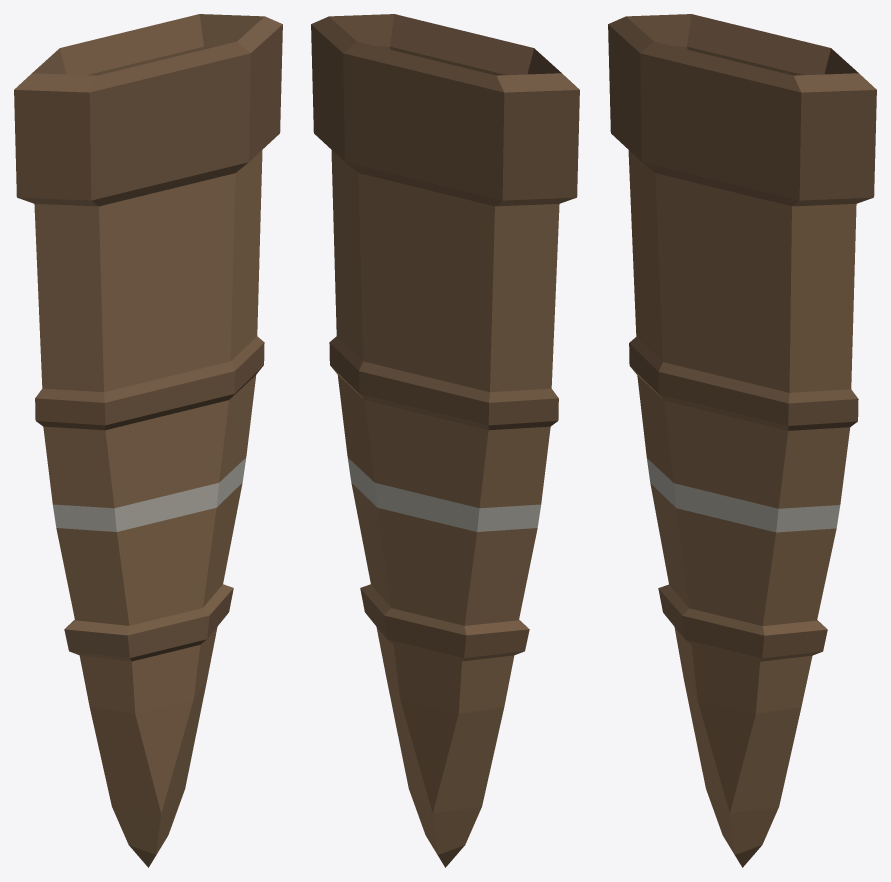
File: SM_pwe_rome_dagger_scabbard_03.fbx
3 views of the same model, side by side, from view 1: azimuth 30°, elevation 25°; view 2: azimuth 150°, elevation 25°; view 3: azimuth 330°, elevation 25° (orthographic).
Visible parts, largest first — view 1: SM_pwe_rome_dagger_scabbard_03; view 2: SM_pwe_rome_dagger_scabbard_03; view 3: SM_pwe_rome_dagger_scabbard_03.
Boxes of the visible parts, <box> form: SM_pwe_rome_dagger_scabbard_03: <box>14,14,282,867</box>; SM_pwe_rome_dagger_scabbard_03: <box>311,14,579,867</box>; SM_pwe_rome_dagger_scabbard_03: <box>608,14,876,867</box>.
Size of the model in its own units: 11.06 by 32.33 by 3.09.
